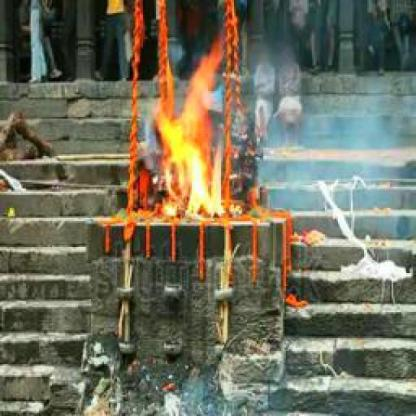fire: (152, 67, 232, 217)
